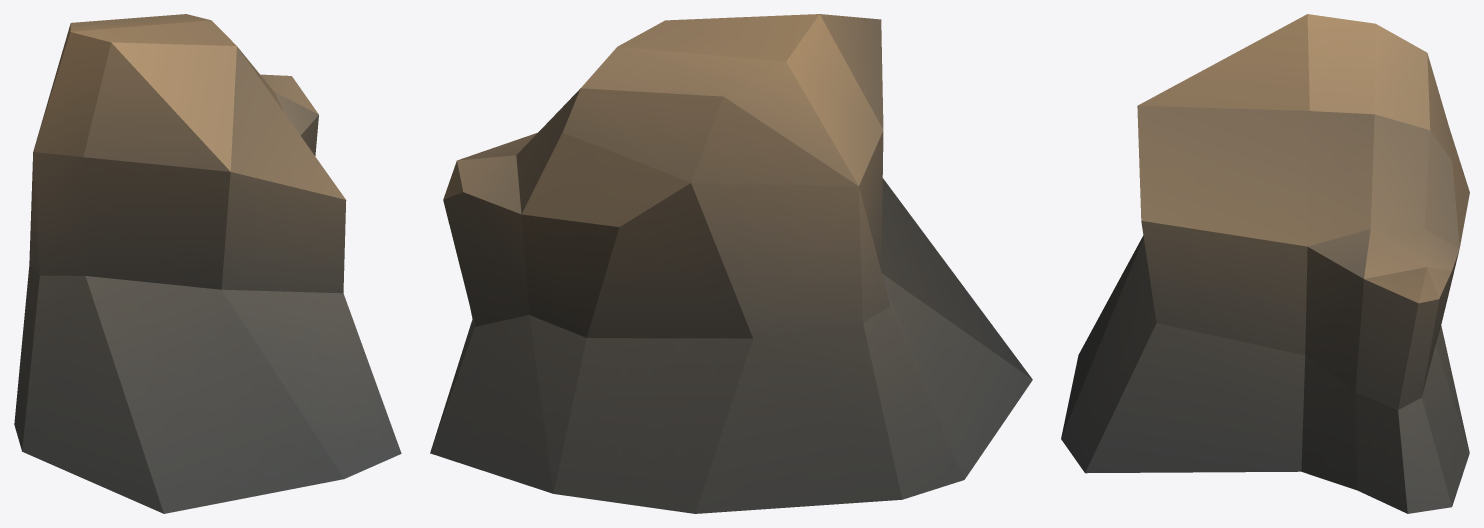
The model's file is RockPlainBrown2.fbx.
The picture shows the model from 3 angles, left to right: view 1: azimuth 30°, elevation 25°; view 2: azimuth 150°, elevation 25°; view 3: azimuth 270°, elevation 25°; orthographic projection. The views are drawn at different scales.
Parts seen in each view (by area): view 1: RockPlainBrown2; view 2: RockPlainBrown2; view 3: RockPlainBrown2.
Boxes of the visible parts, x1=… form: RockPlainBrown2: x1=14, y1=14, x2=401, y2=513; RockPlainBrown2: x1=430, y1=14, x2=1032, y2=513; RockPlainBrown2: x1=1061, y1=14, x2=1469, y2=513.
Bounding box in the file's own units: 59.98 × 57.95 × 57.72.
